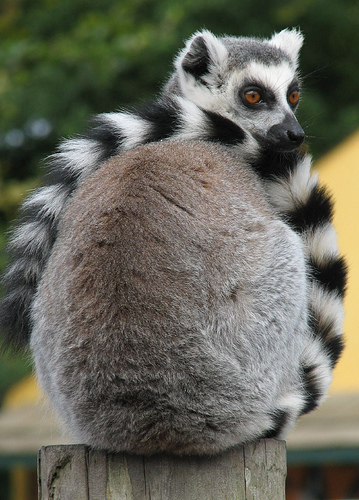cat: (3, 22, 352, 463)
